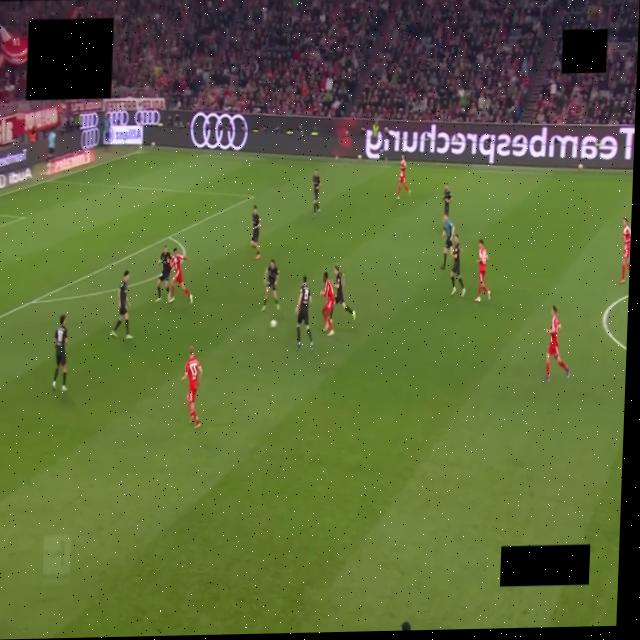ball: (270, 320, 276, 328)
player: (545, 306, 569, 382), (182, 347, 201, 428), (111, 270, 131, 339), (169, 248, 192, 303), (295, 276, 312, 350), (334, 264, 355, 320), (52, 315, 67, 391), (475, 239, 490, 301), (320, 273, 334, 335), (261, 260, 278, 311), (450, 235, 464, 296), (156, 245, 170, 301), (619, 218, 630, 284), (396, 155, 410, 200), (251, 205, 260, 259), (312, 169, 320, 216), (442, 182, 450, 214)
referee: (440, 214, 453, 269)
